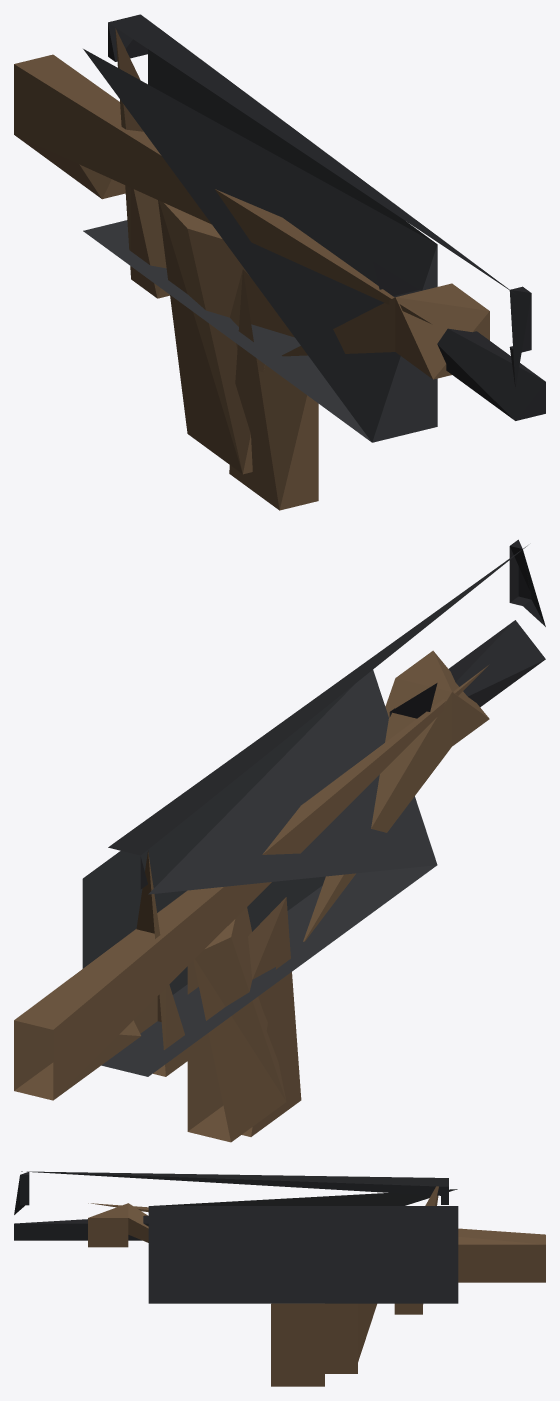
File: mpl.obj
The picture shows the model from 3 angles, top to bottom: view 1: azimuth 30°, elevation 25°; view 2: azimuth 150°, elevation 25°; view 3: azimuth 270°, elevation 25°; orthographic projection. The views are drawn at different scales.
Size of the model in its own units: 0.06 by 0.3375 by 0.79.
